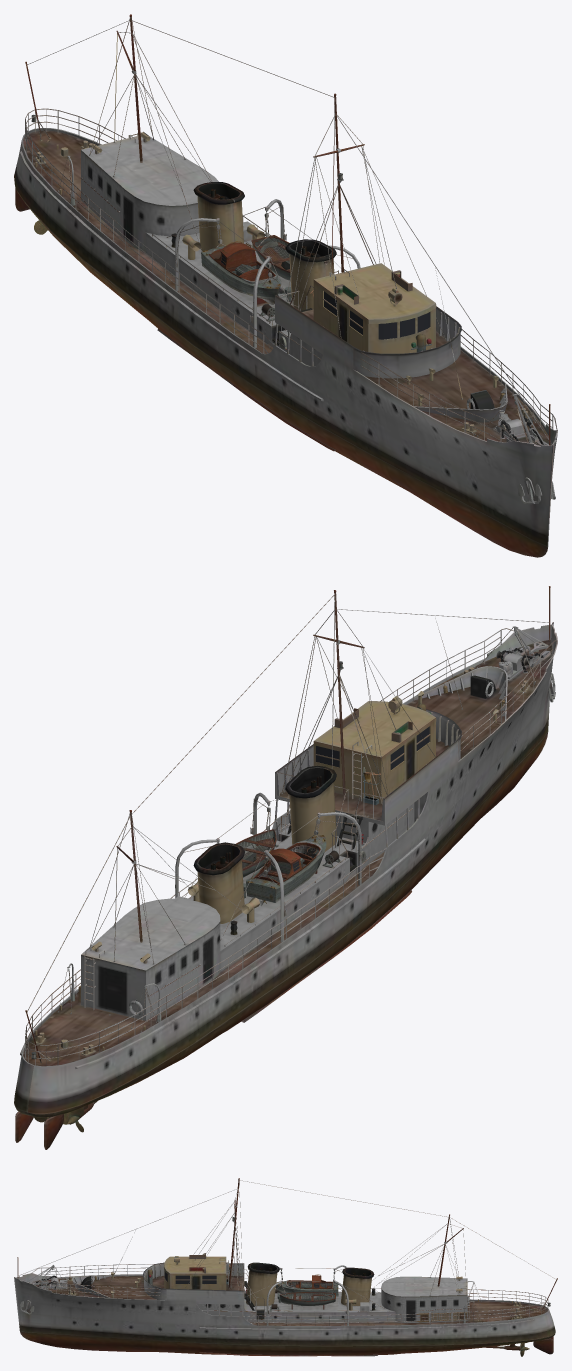
File: Aronia.fbx
3 renders of one model, top to bottom at view 1: azimuth 30°, elevation 25°; view 2: azimuth 150°, elevation 25°; view 3: azimuth 270°, elevation 25°, orthographic. The views are drawn at different scales.
Parts seen in each view (by area): view 1: XSX024_Aronia_844.001, XSX024_Aronia_844-12, XSX024_Aronia_wire_36, BM514_Motor_Boat_16ft, transparent_glass_alp, BM520_Sailng_Dinghy_1; view 2: XSX024_Aronia_844-12, XSX024_Aronia_844.001, XSX024_Aronia_wire_36, BM514_Motor_Boat_16ft, BM520_Sailng_Dinghy_1, transparent_glass_alp; view 3: XSX024_Aronia_844.001, XSX024_Aronia_844-12, XSX024_Aronia_wire_36, BM514_Motor_Boat_16ft, BM520_Sailng_Dinghy_1, CM021_Accommodation_L, transparent_glass_alp.
Boxes of the visible parts, <box> form: XSX024_Aronia_844.001: <box>231,93,557,557</box>; XSX024_Aronia_844-12: <box>14,14,290,395</box>; XSX024_Aronia_wire_36: <box>25,18,557,442</box>; BM514_Motor_Boat_16ft: <box>201,241,281,304</box>; transparent_glass_alp: <box>221,255,430,339</box>; BM520_Sailng_Dinghy_1: <box>251,235,290,280</box>; XSX024_Aronia_844-12: <box>14,810,349,1149</box>; XSX024_Aronia_844.001: <box>250,586,557,957</box>; XSX024_Aronia_wire_36: <box>25,594,557,1065</box>; BM514_Motor_Boat_16ft: <box>246,835,326,905</box>; BM520_Sailng_Dinghy_1: <box>236,829,276,877</box>; transparent_glass_alp: <box>293,726,429,871</box>; XSX024_Aronia_844.001: <box>14,1178,292,1356</box>; XSX024_Aronia_844-12: <box>284,1214,557,1356</box>; XSX024_Aronia_wire_36: <box>18,1180,556,1325</box>; BM514_Motor_Boat_16ft: <box>276,1274,338,1296</box>; BM520_Sailng_Dinghy_1: <box>279,1292,335,1305</box>; CM021_Accommodation_L: <box>417,1312,467,1322</box>; transparent_glass_alp: <box>164,1271,319,1287</box>.
Size of the model in its own units: 360 by 971 by 2760.
Materials: 20 (20 with a texture image).
